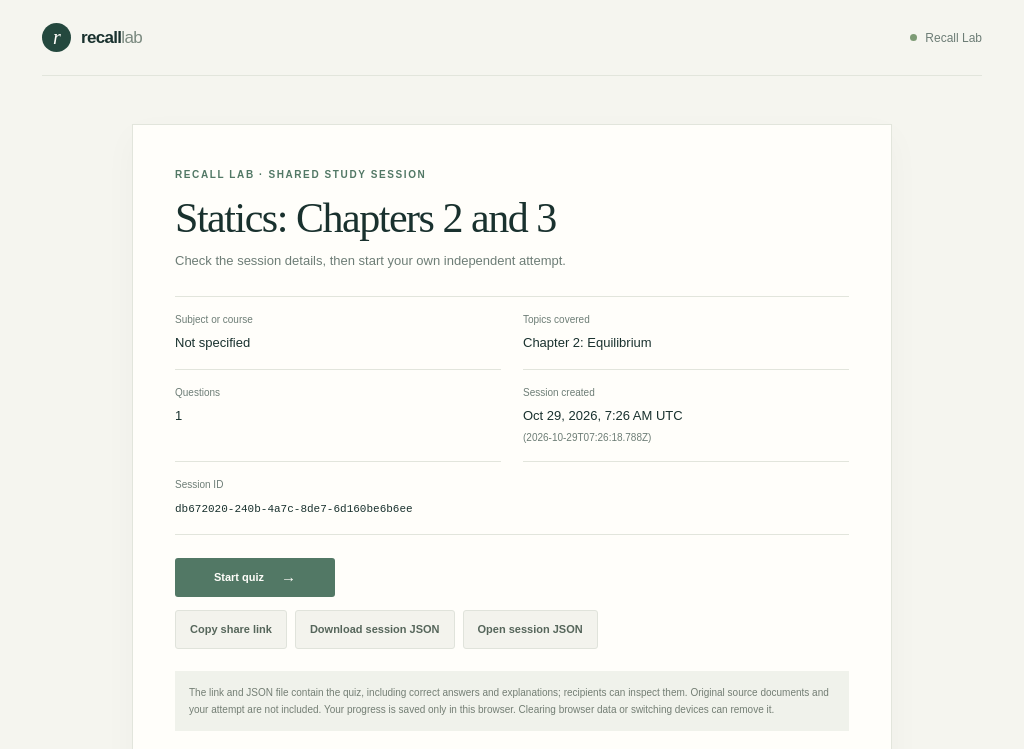
Test case: shared session experience › offers a restart after completing a shared session
Click the button "Start quiz →".
click(255, 577)  # box [175,558,335,596]
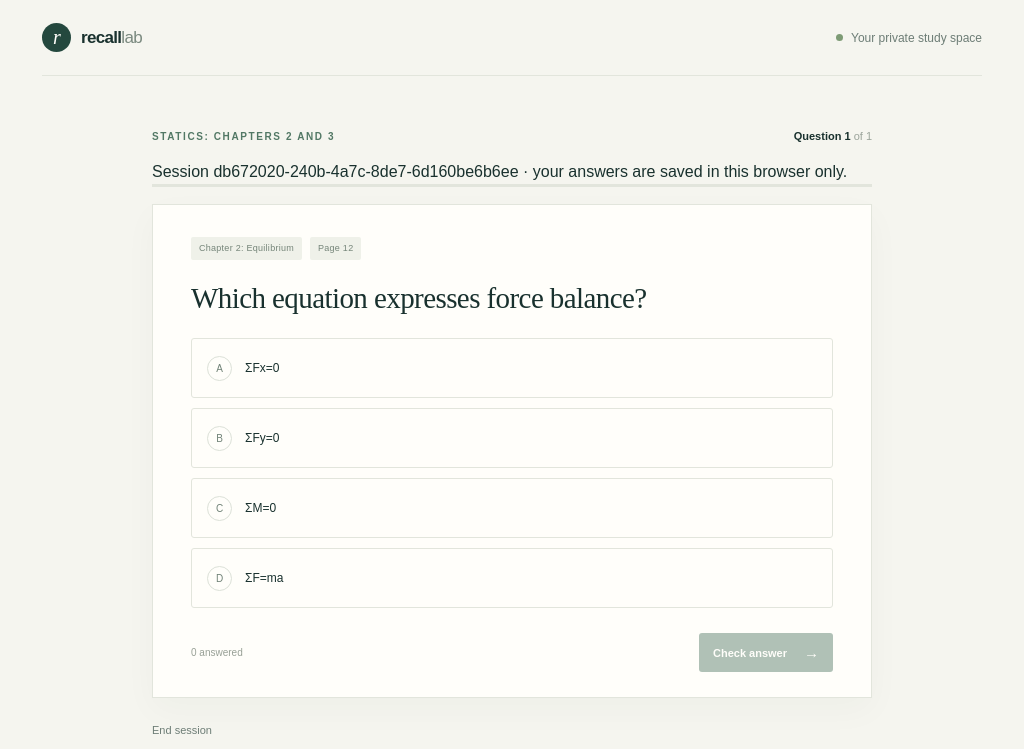
Click the button "A ΣFx=0".
click(262, 368)  # box [191,338,833,398]
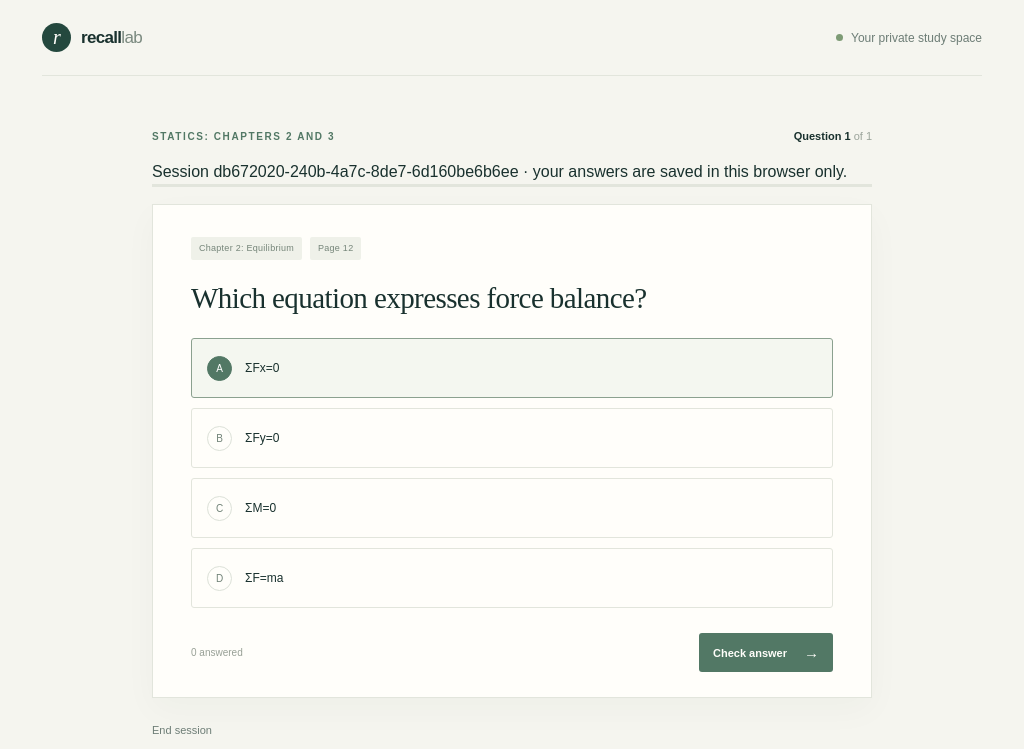
Click the button "Check answer →".
click(766, 653)  # box [699,633,833,672]
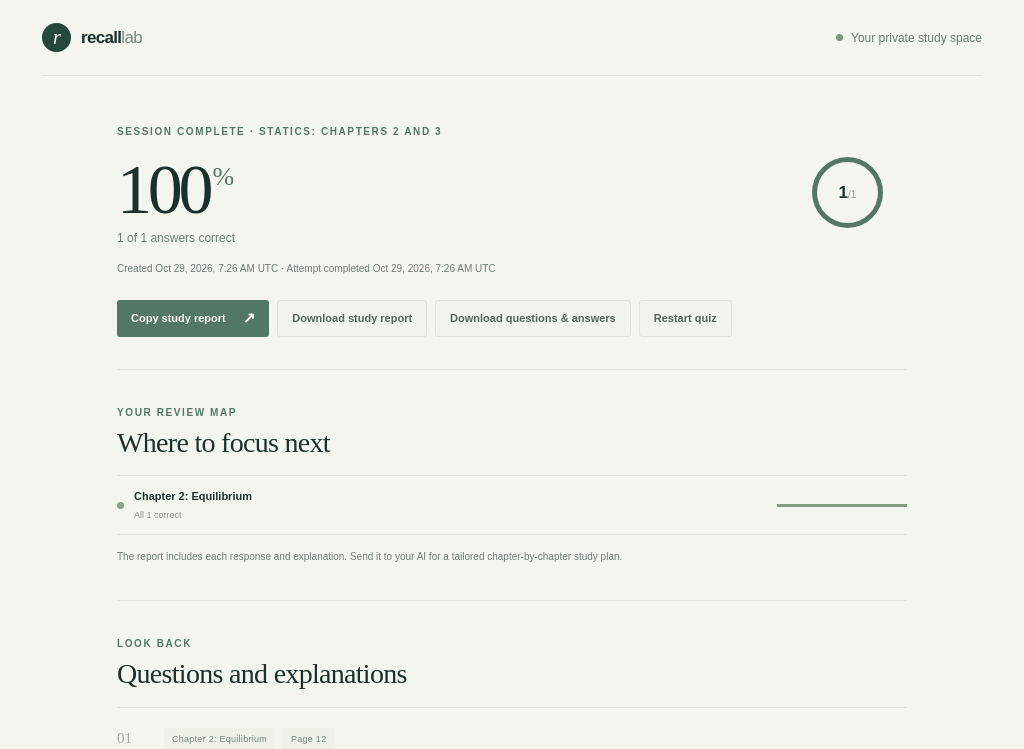
Result: the button "Restart quiz" is shown
Click the button "Restart quiz".
click(685, 318)  # box [639,300,732,336]
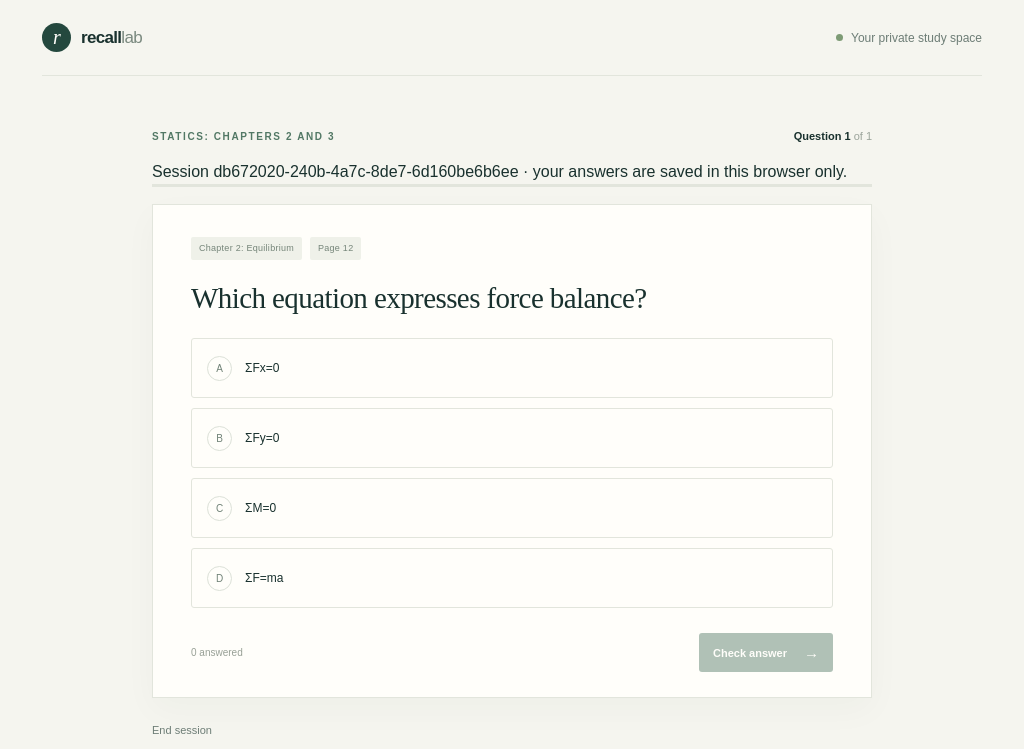
Result: the button "Check answer →" is disabled at [699,633,833,672]
